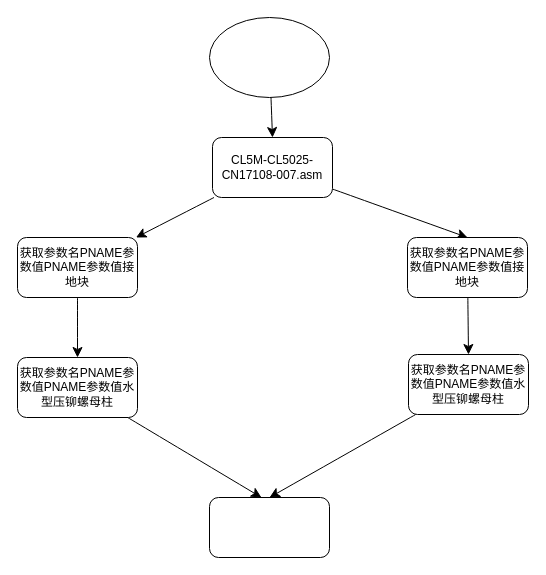
The diagram is 546 pixels wide and 575 high, and some of its shapes have lost their labels. The shapes that lost their labels are listed below. From the top down, each one's centre as x and y in pixels, then its label:
At (269,57): "获取模型".
At (269,527): "判断两个螺母柱直径是否相等，是为合格".
